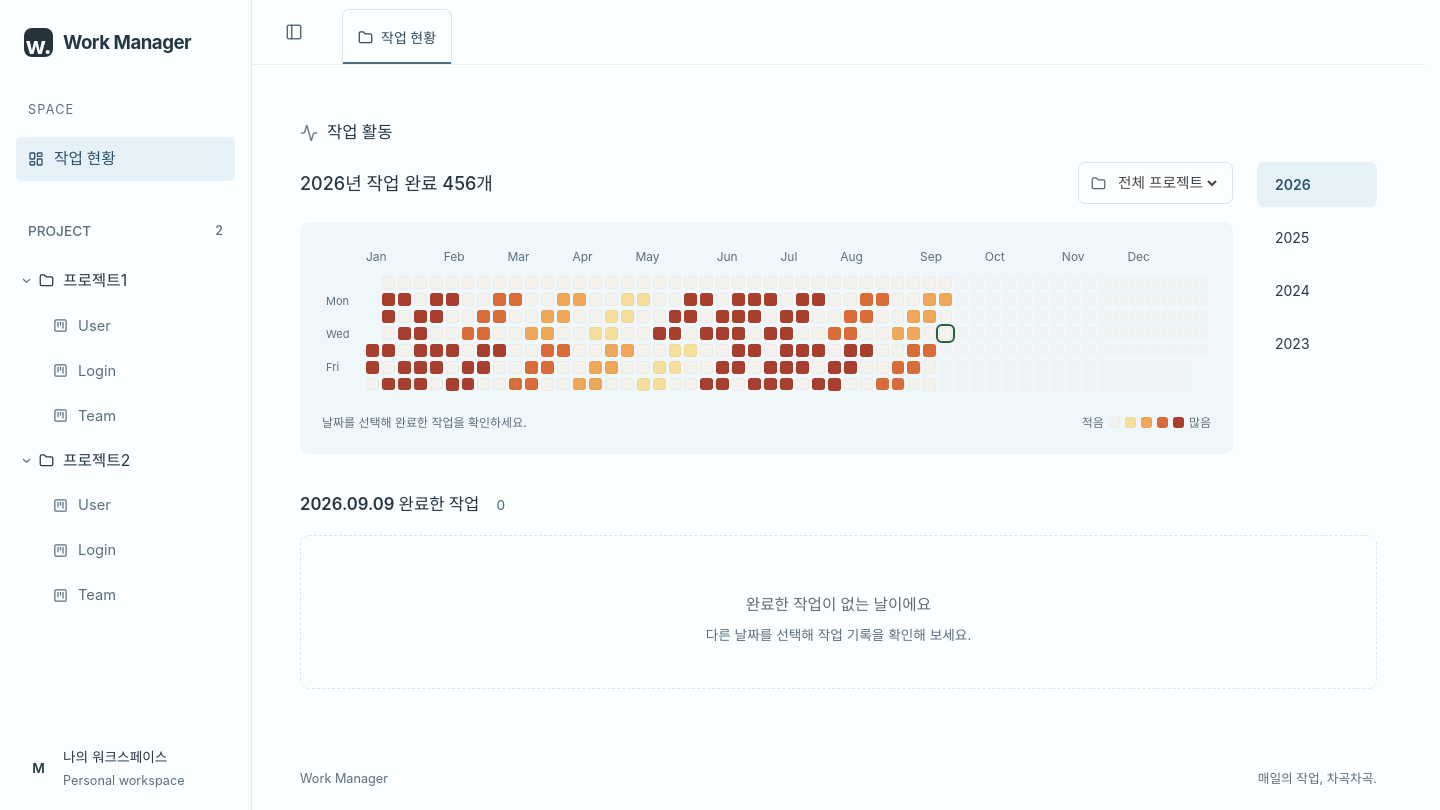
Scenario: workspace › desktop_sidebar_toggle_keeps_page_and_restores_navigation_ok
What coordinates should you click on to do the following:
click the button named "사이드바 접기"
I would click on:
 (294, 32)
Its box is [279,17,309,47].
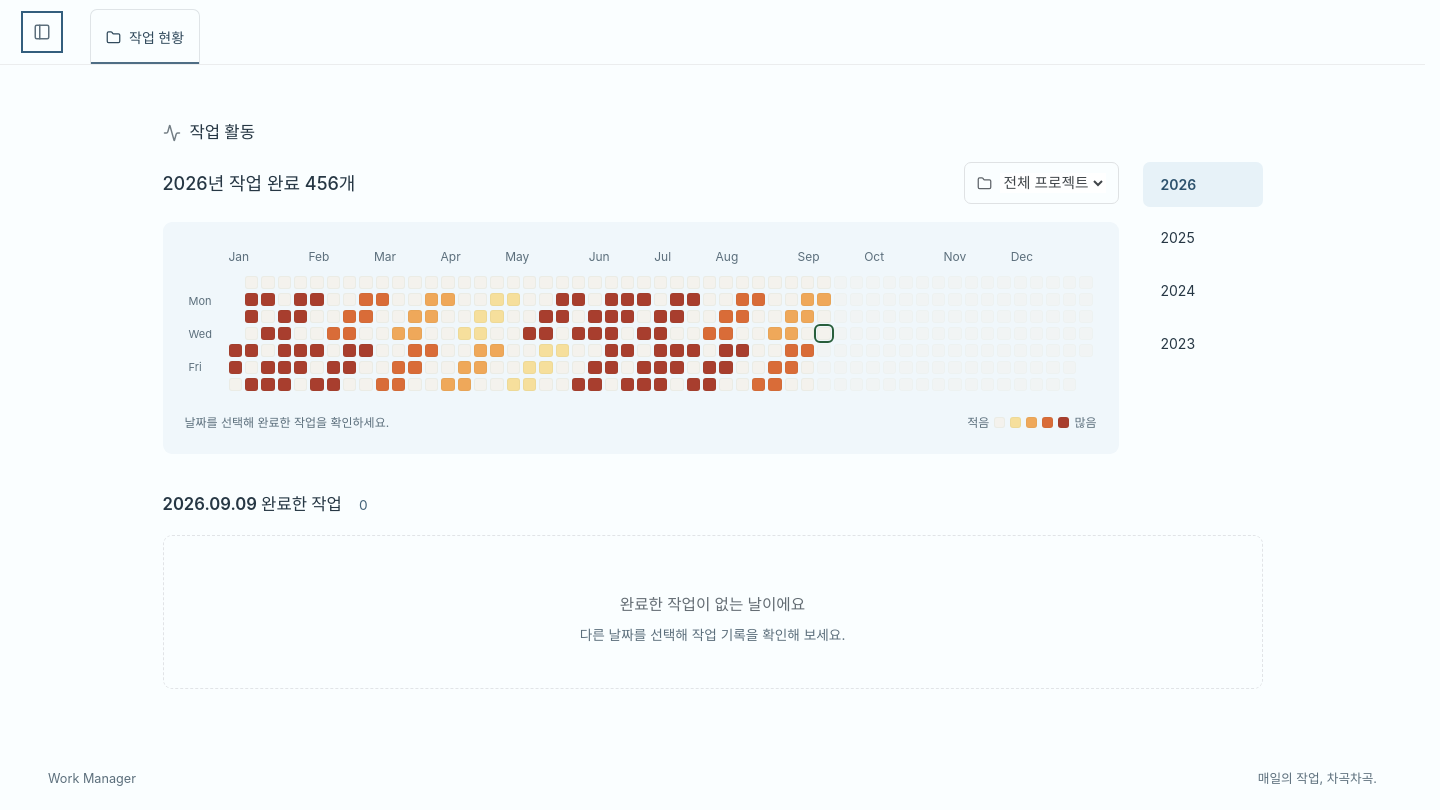
Expected: the panel named "작업 현황" is shown, [162,122,1262,689]
Expected: the button named "사이드바 펼치기" is collapsed
What coordinates should you click on to do the following:
click the button named "사이드바 펼치기"
I would click on:
 (42, 32)
Its box is [27,17,57,47].
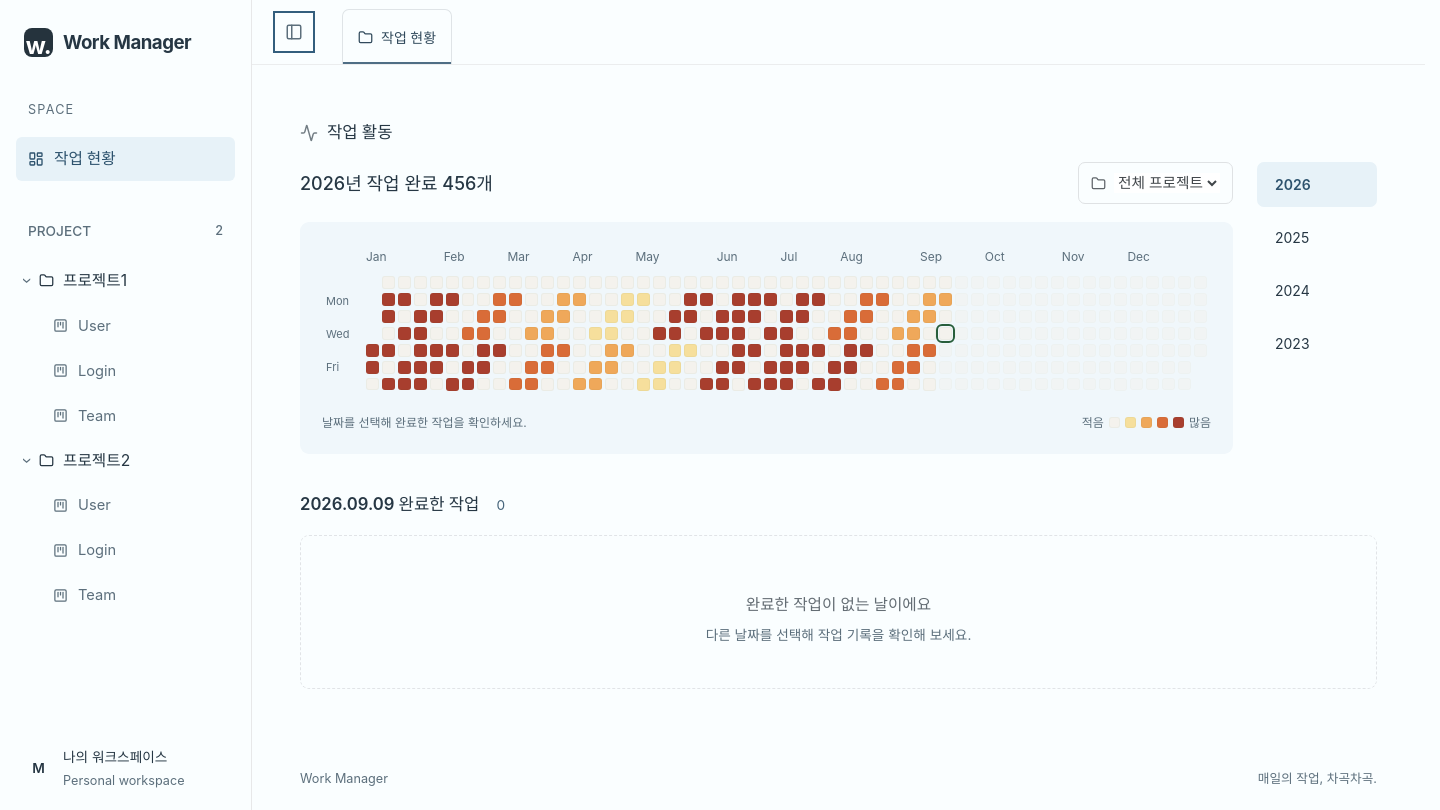
Expected: the button named "사이드바 접기" is expanded, [279,17,309,47]
Expected: the element named "워크스페이스 탐색" is shown, [0,0,252,809]
